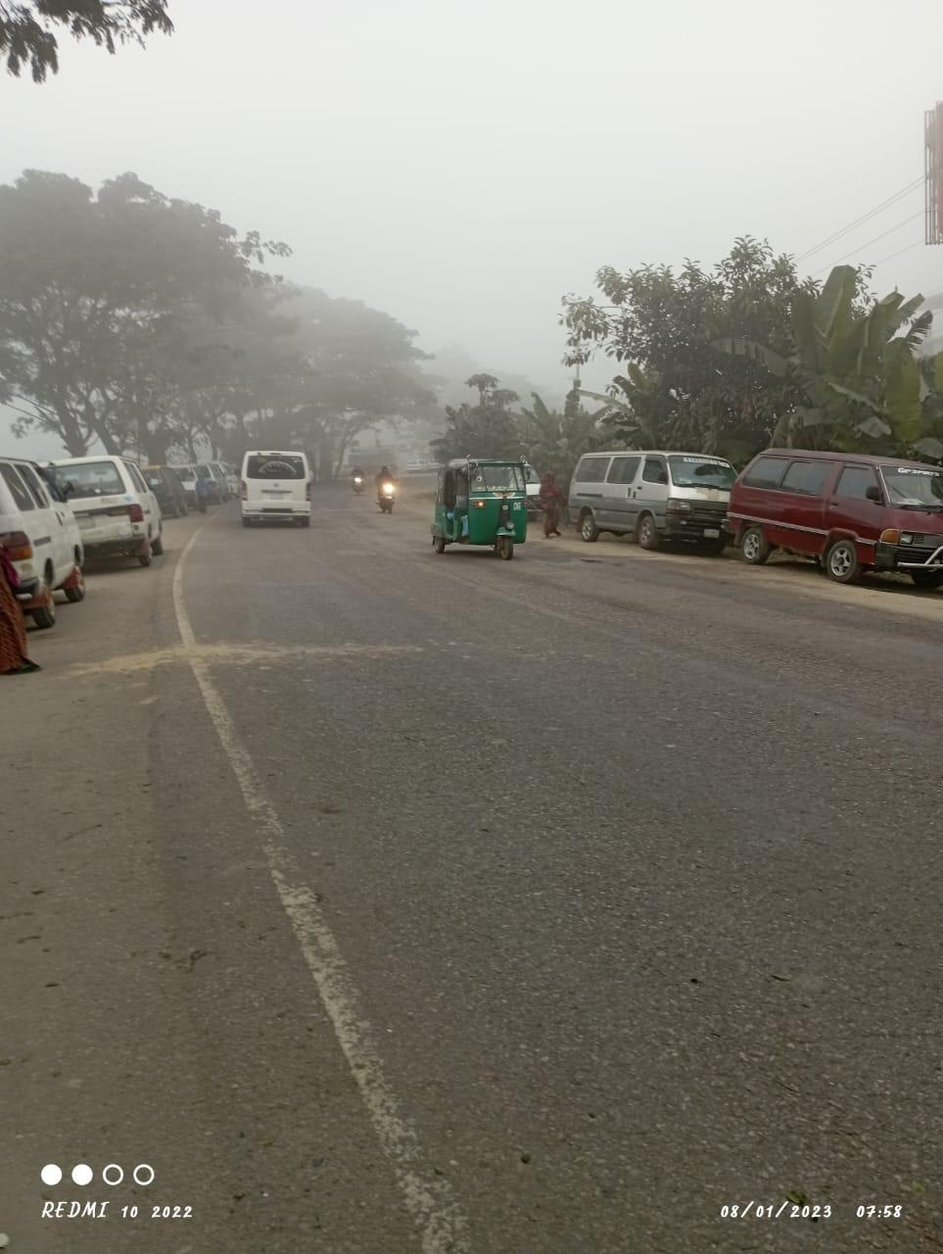Bike: (373, 462, 407, 517), (345, 459, 369, 502)
Car: (729, 434, 943, 592), (568, 443, 718, 549), (49, 444, 174, 565), (229, 434, 319, 537)
